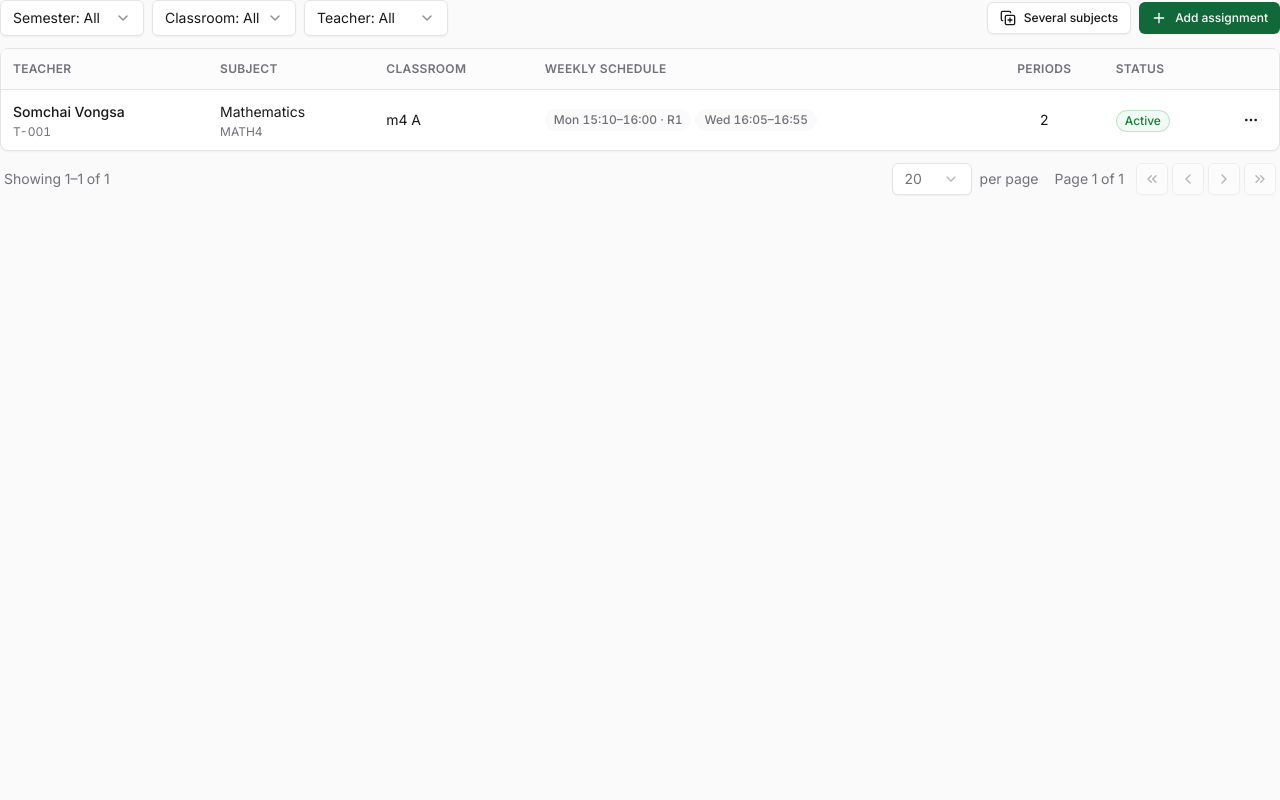
teaching assignments — schedule editor › catches a schedule that overlaps itself before the round trip
expect the text "Mathematics" is shown: met, box 220,100 -> 305,122
Click the button named "actions". click: [1251, 120]
box: 1235,104 -> 1267,136
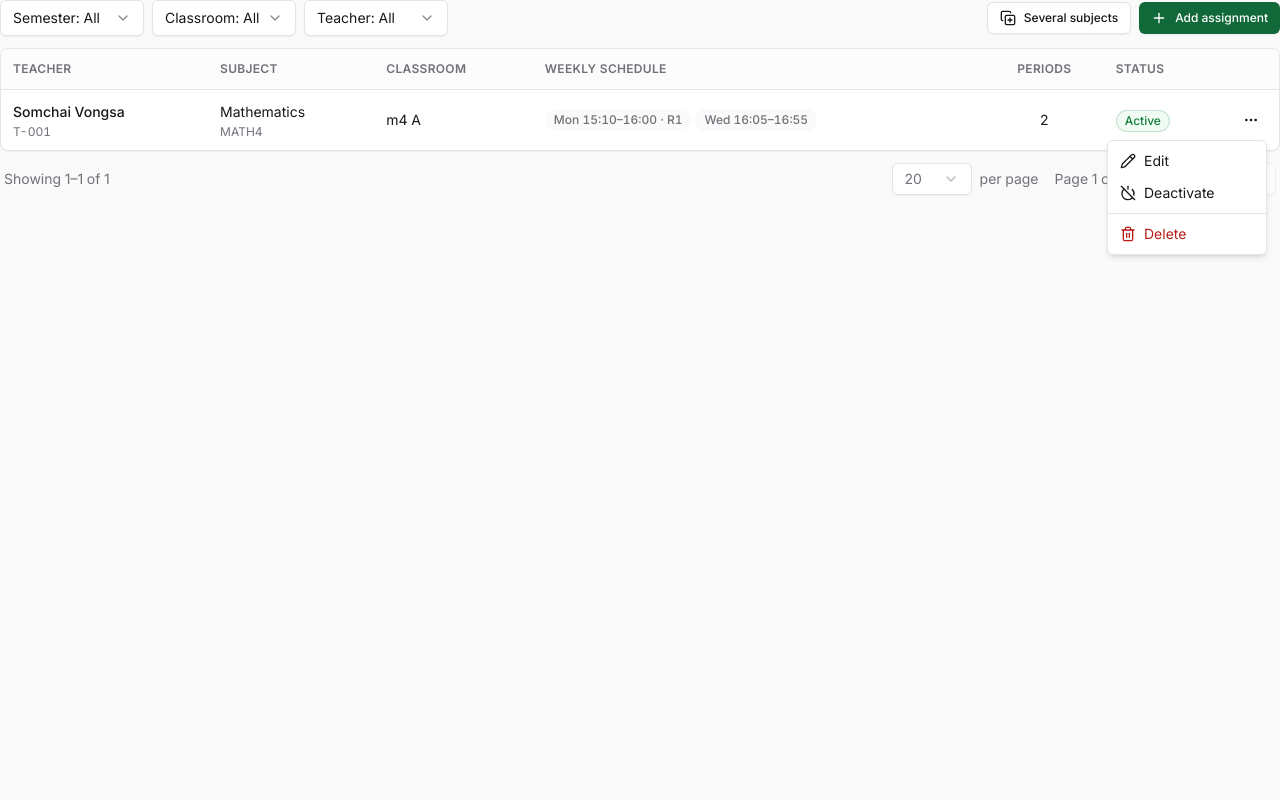
Click the menu item "Edit". click: [1144, 160]
box: 1120,149 -> 1169,172
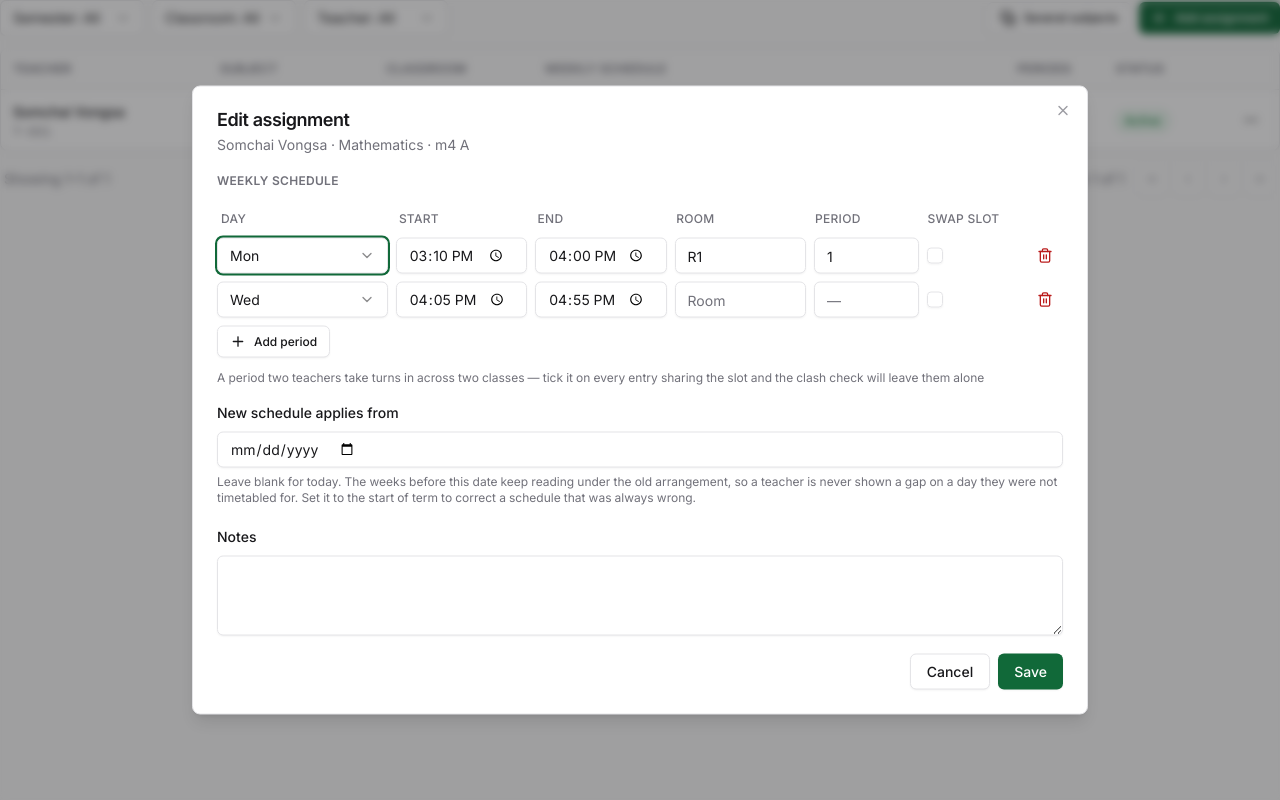
Click the button "Add period". click: [274, 342]
box: 217,326 -> 330,358
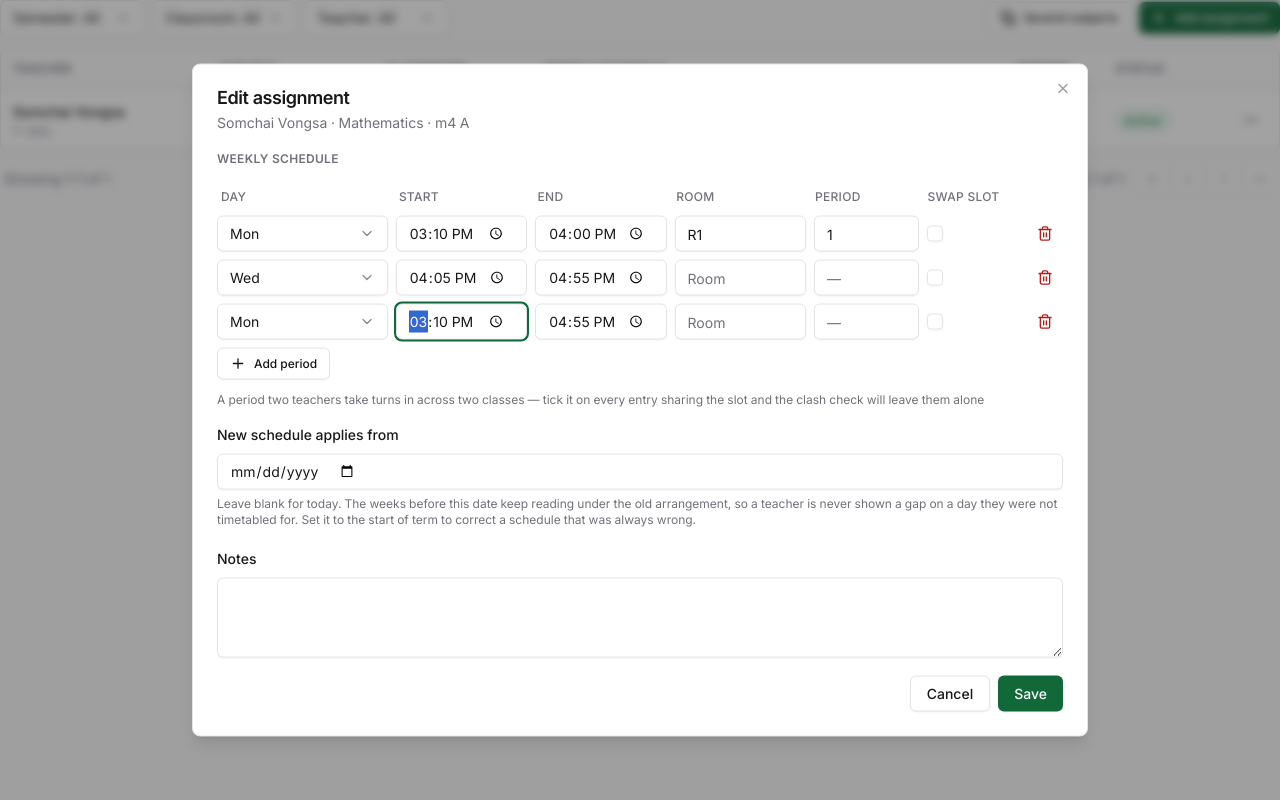
Click the button "Save". click: [1031, 694]
box: 998,676 -> 1063,712
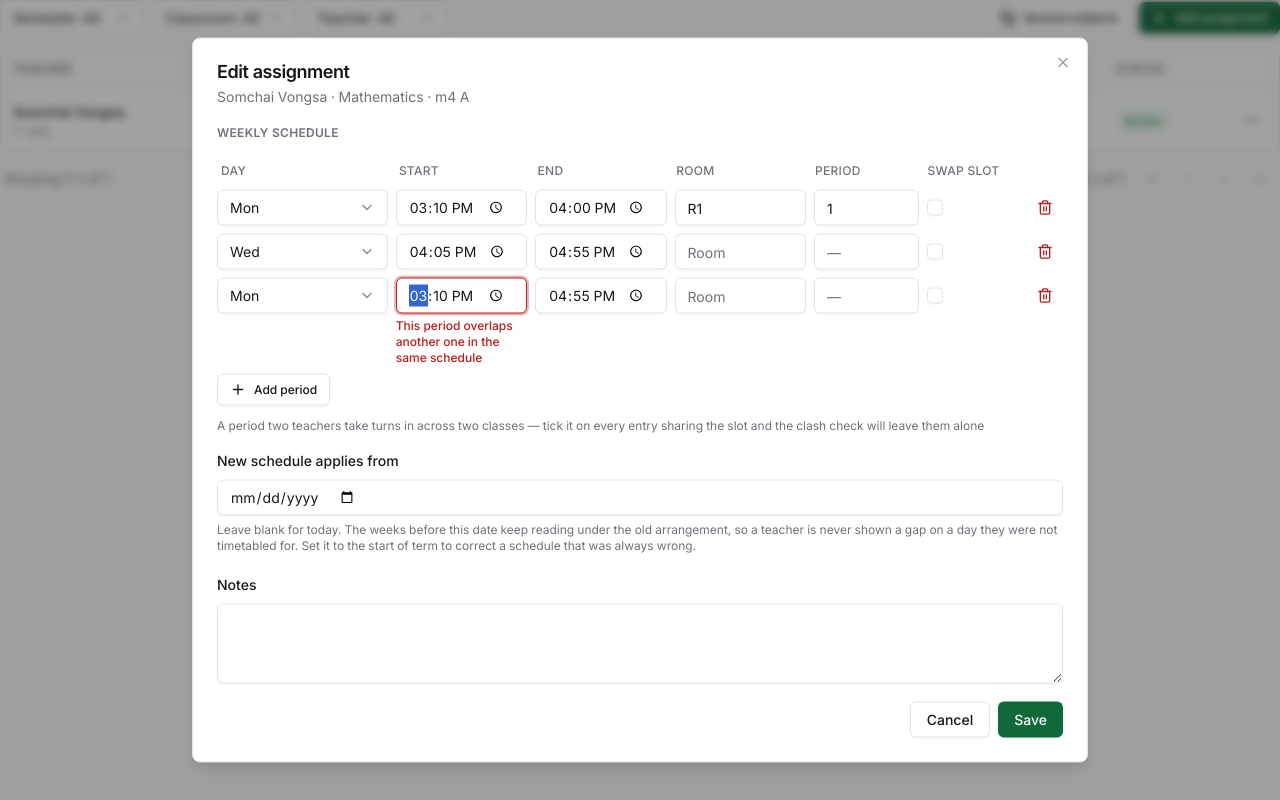
expect the text "This period overlaps another one in the same schedule" is shown: met, box 396,318 -> 527,366
